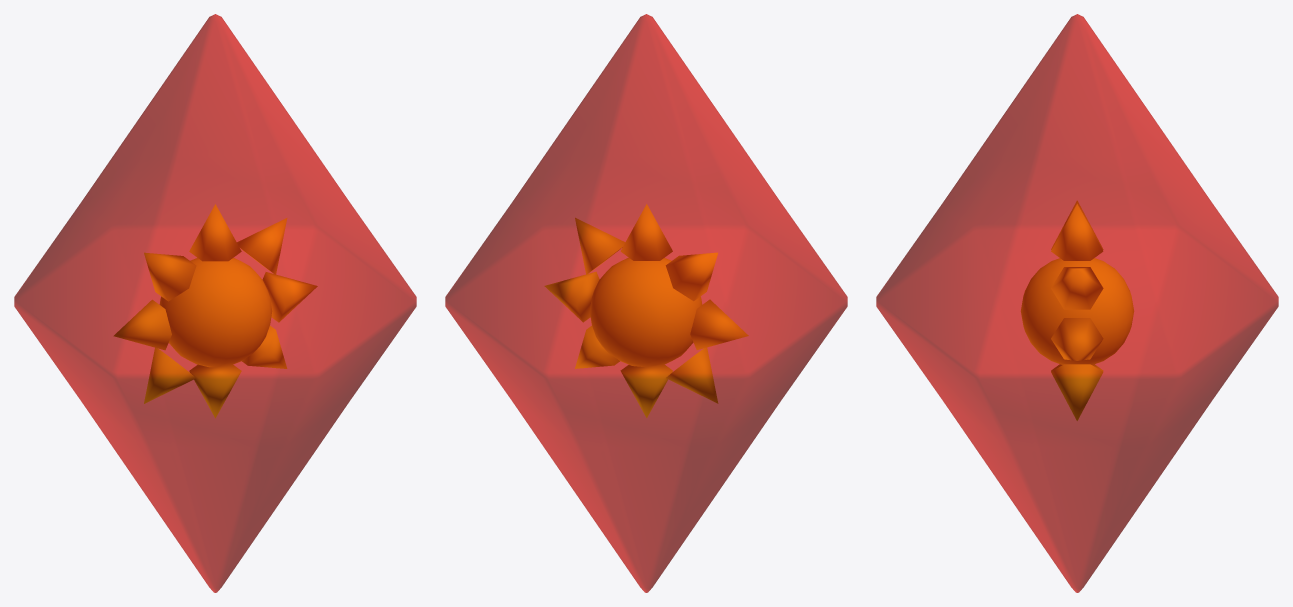
Rendered from PowerCrystal.glb.
The picture shows the model from 3 angles, left to right: view 1: azimuth 30°, elevation 25°; view 2: azimuth 150°, elevation 25°; view 3: azimuth 270°, elevation 25°; orthographic projection.
Visible parts, largest first — view 1: PowerUpSun; view 2: PowerUpSun; view 3: PowerUpSun.
Part boxes in pixels (x1=…): PowerUpSun: x1=14, y1=14, x2=416, y2=592; PowerUpSun: x1=445, y1=14, x2=847, y2=592; PowerUpSun: x1=876, y1=14, x2=1278, y2=592.
Bounding box in the file's own units: 0.8912 × 1.61 × 1.02.
